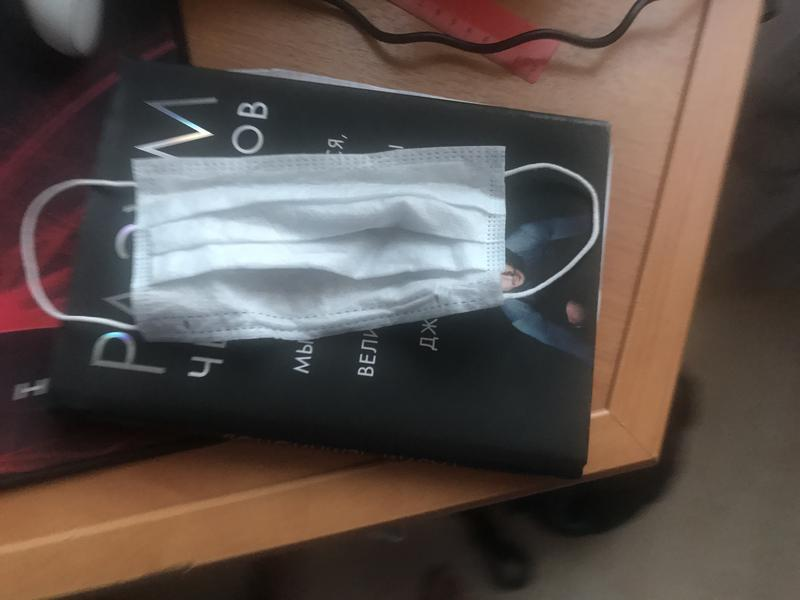medical_mask: (19, 158, 600, 339)
